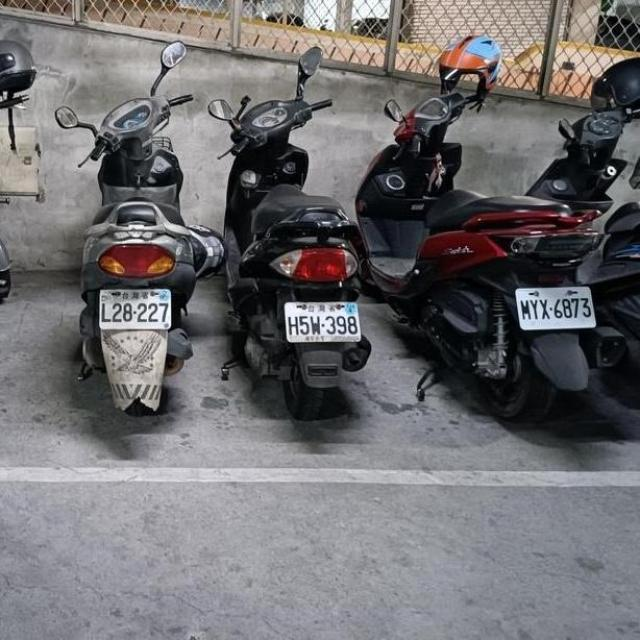W: (510, 278, 597, 335), (279, 291, 363, 348), (95, 280, 174, 334)
